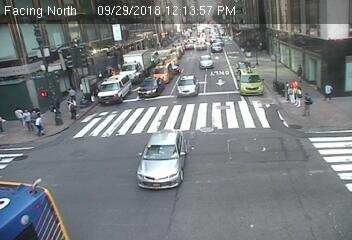car: (1, 181, 68, 240), (137, 130, 187, 190), (97, 74, 130, 103), (121, 50, 151, 81), (236, 69, 265, 94), (137, 77, 164, 96), (177, 75, 200, 96), (154, 62, 171, 84), (198, 54, 214, 69), (168, 52, 180, 67), (194, 39, 207, 49), (183, 38, 194, 49), (213, 36, 225, 46), (210, 43, 223, 52), (198, 32, 207, 39)
